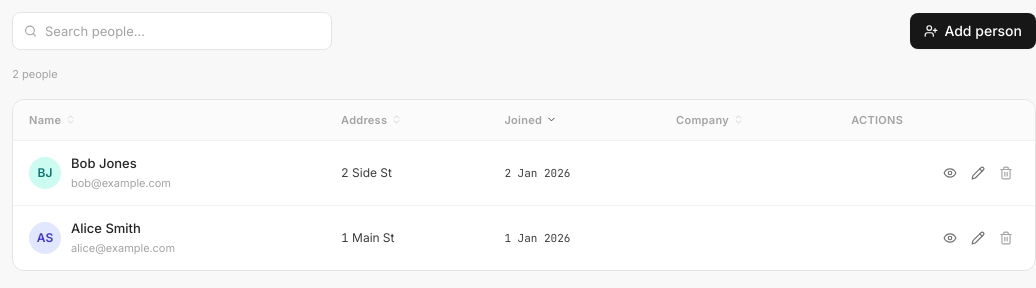
Scenario: UsersPage (manage people feature) › search narrows the list down to matching people
This screenshot has width=1036, height=288.
Check: the text "Alice Smith" is shown, box x1=71 y1=220 x2=141 y2=236
Type "bob" into the field labelled "Search people…".
click(172, 31); type("bob")  # box x1=12 y1=12 x2=332 y2=50
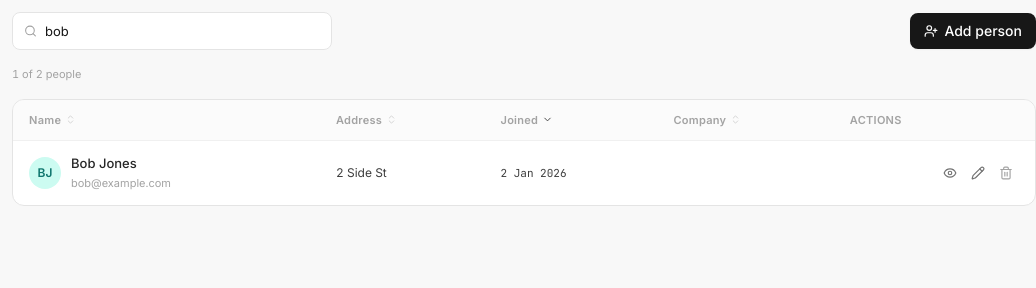
Check: the text "Bob Jones" is shown, box x1=71 y1=154 x2=137 y2=170
Check: the text "Alice Smith" is gone
